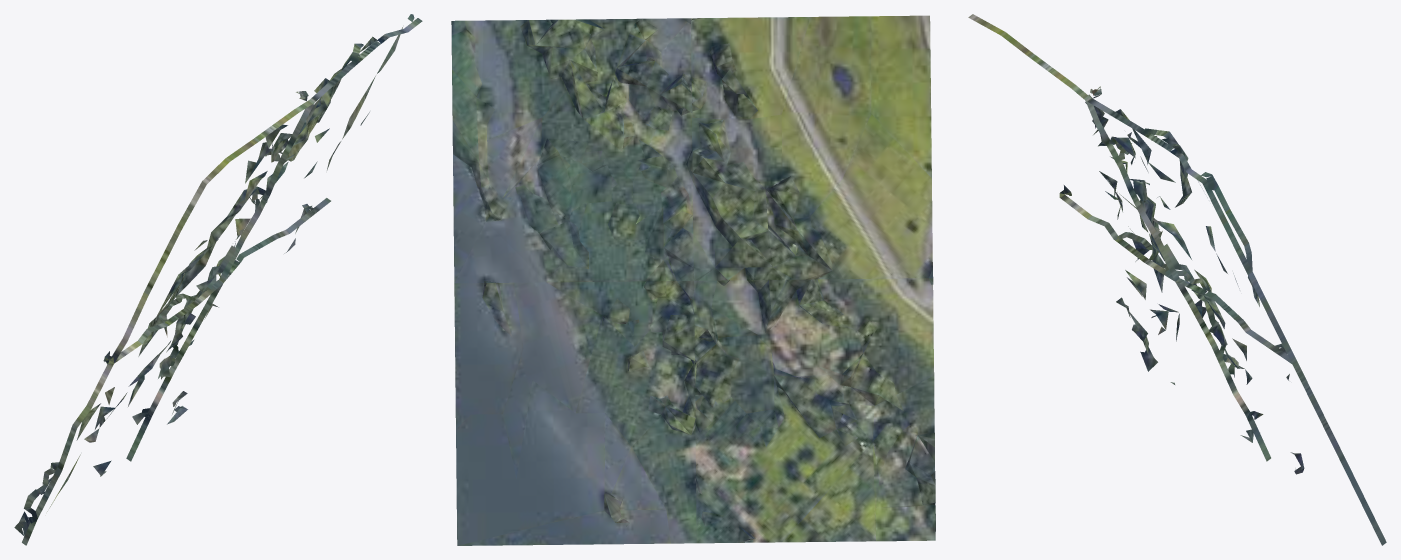
3 renders of one model, left to right at view 1: azimuth 30°, elevation 25°; view 2: azimuth 150°, elevation 25°; view 3: azimuth 270°, elevation 25°, orthographic. The views are drawn at different scales.
Bounding box in the file's own units: 309 × 283 × 256.
1 material, 1 textured.
